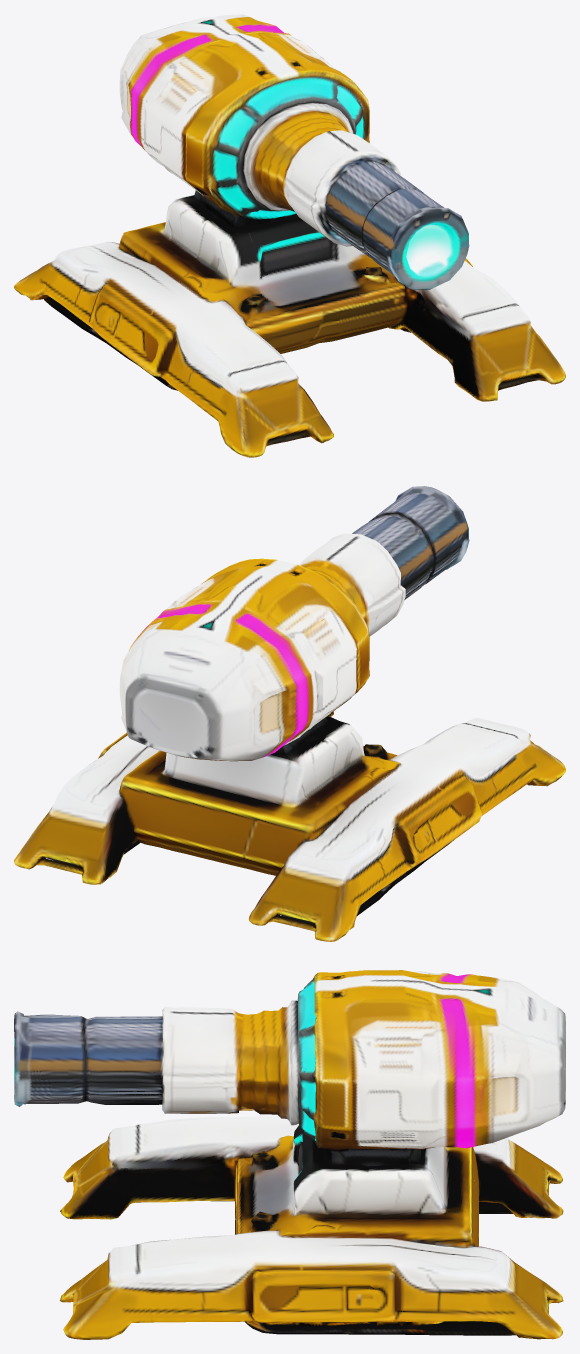
Rendered from base_basic_shaded.fbx.
The picture shows the model from 3 angles, top to bottom: view 1: azimuth 30°, elevation 25°; view 2: azimuth 150°, elevation 25°; view 3: azimuth 270°, elevation 25°; orthographic projection. The views are drawn at different scales.
Visible parts, largest first — view 1: root.0, root.3, root.1, root.4, root.2, root.6; view 2: root.0, root.3, root.1, root.4, root.2, root.6; view 3: root.0, root.2, root.4, root.1, root.3, root.5.
Part boxes in pixels (bbox=[...]): root.0: bbox=[119, 14, 369, 227]; root.3: bbox=[14, 241, 333, 457]; root.1: bbox=[119, 195, 406, 353]; root.4: bbox=[243, 102, 469, 289]; root.2: bbox=[388, 258, 565, 401]; root.6: bbox=[44, 297, 177, 390]; root.0: bbox=[119, 558, 369, 761]; root.3: bbox=[249, 717, 565, 941]; root.1: bbox=[119, 716, 401, 875]; root.4: bbox=[298, 486, 469, 636]; root.2: bbox=[14, 711, 333, 884]; root.6: bbox=[281, 840, 453, 924]; root.0: bbox=[297, 970, 565, 1165]; root.2: bbox=[60, 1230, 563, 1339]; root.4: bbox=[14, 1000, 298, 1125]; root.1: bbox=[234, 1125, 479, 1247]; root.3: bbox=[60, 1116, 563, 1219]; root.5: bbox=[245, 1321, 515, 1335].
Bounding box in the file's own units: 135 × 105 × 186.
